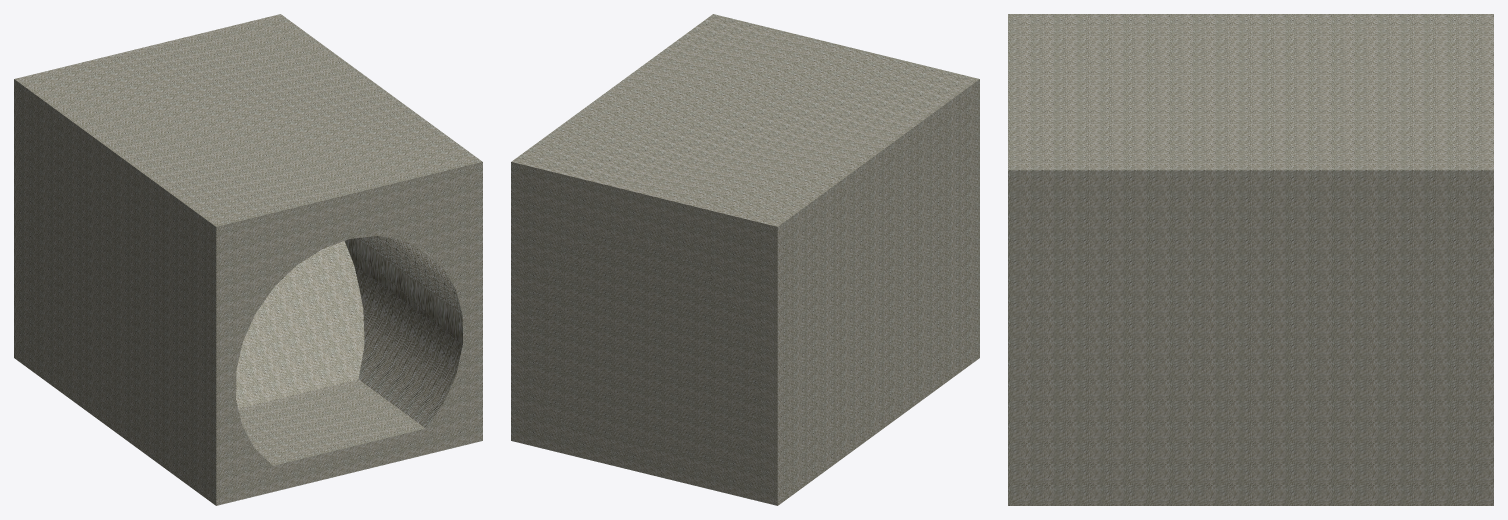
File: ExcavTwoStep3.glb
3 views of the same model, side by side, from view 1: azimuth 30°, elevation 25°; view 2: azimuth 150°, elevation 25°; view 3: azimuth 270°, elevation 25° (orthographic). The views are drawn at different scales.
Bounding box in the file's own units: 16 × 16 × 21.
1 material, 1 textured.
